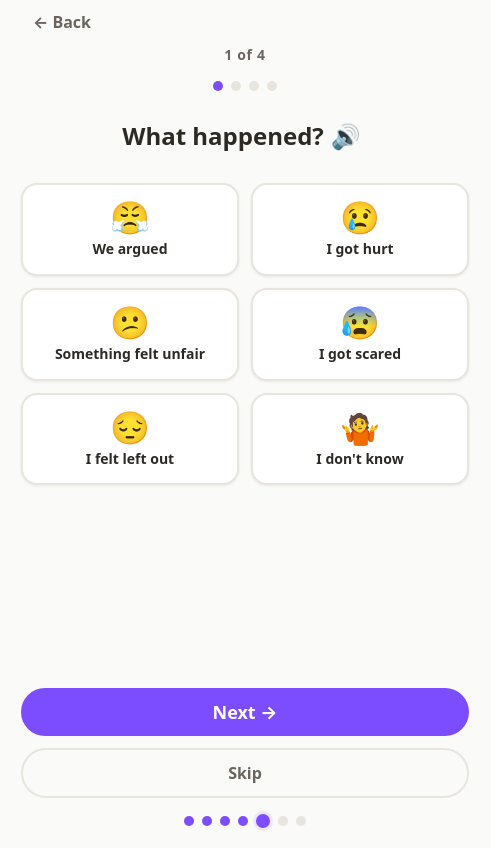
Test: Reflection › Skip advances to the next prompt without requiring a selection
Note: On prompt 1 — skip without selecting anything
What coordinates should you click on to do the following:
click the button "Skip"
I would click on:
 (245, 773)
Its box is x1=21 y1=748 x2=469 y2=798.
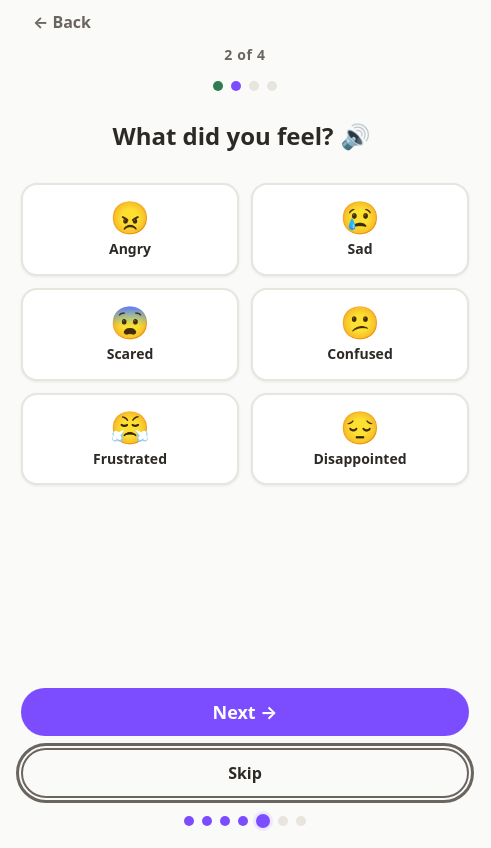
Now the heading "What did you feel? 🔊" is shown, box x1=112 y1=115 x2=378 y2=159
Now the text "2 of 4" is shown, box x1=224 y1=44 x2=266 y2=65
